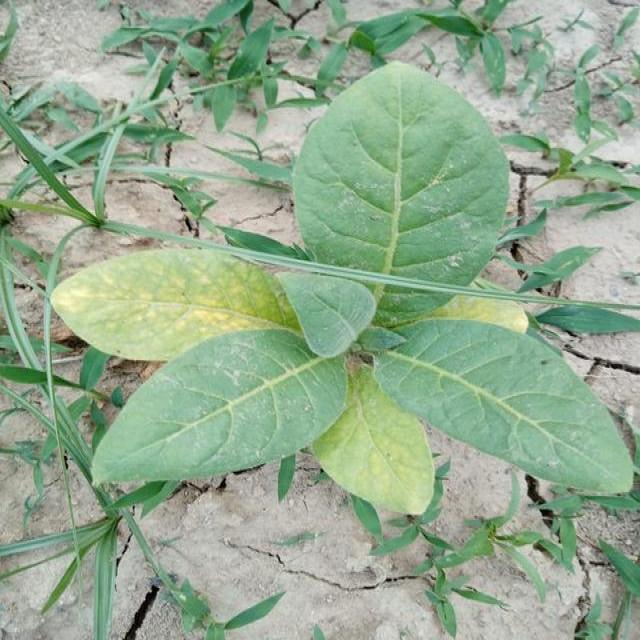crop: (63, 73, 624, 530)
